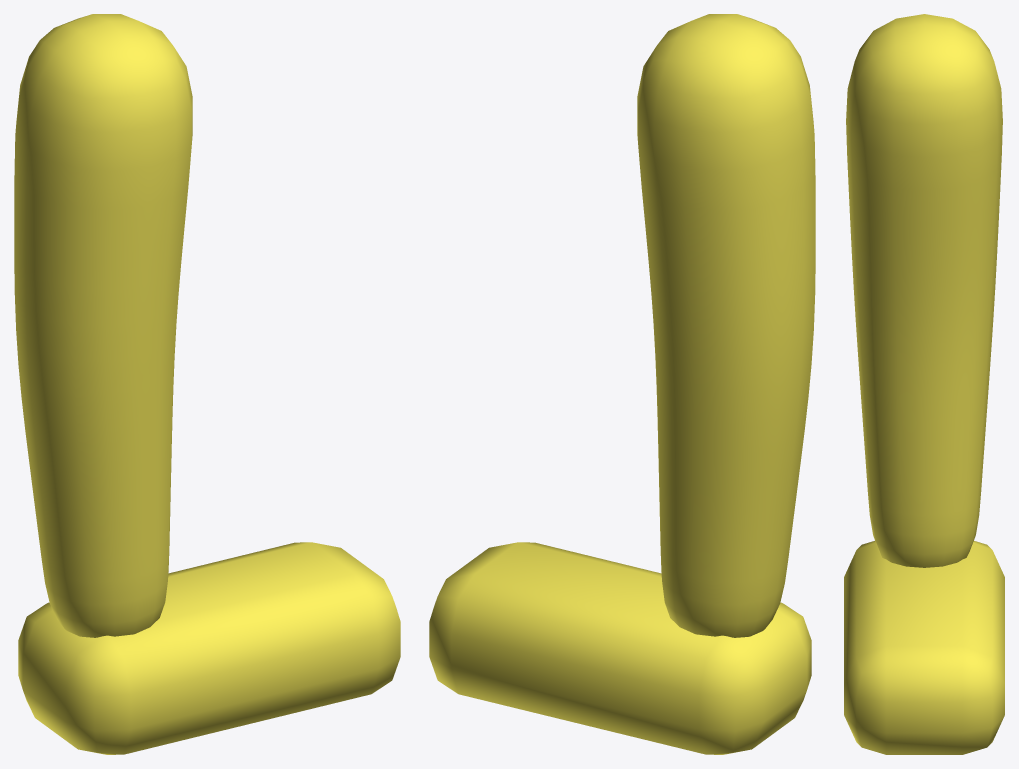
Rendered from SM_Partygoer_Shin.fbx.
3 views of the same model, side by side, from view 1: azimuth 30°, elevation 25°; view 2: azimuth 150°, elevation 25°; view 3: azimuth 270°, elevation 25° (orthographic). The views are drawn at different scales.
Visible parts, largest first — view 1: SM_Partygoer_Shin; view 2: SM_Partygoer_Shin; view 3: SM_Partygoer_Shin.
Part boxes in pixels (box(x1,y1,x2,y2)): SM_Partygoer_Shin: box(14, 14, 400, 754); SM_Partygoer_Shin: box(429, 14, 815, 754); SM_Partygoer_Shin: box(844, 14, 1004, 754).
Bounding box in the file's own units: 21.12 × 41.22 × 9.5.
